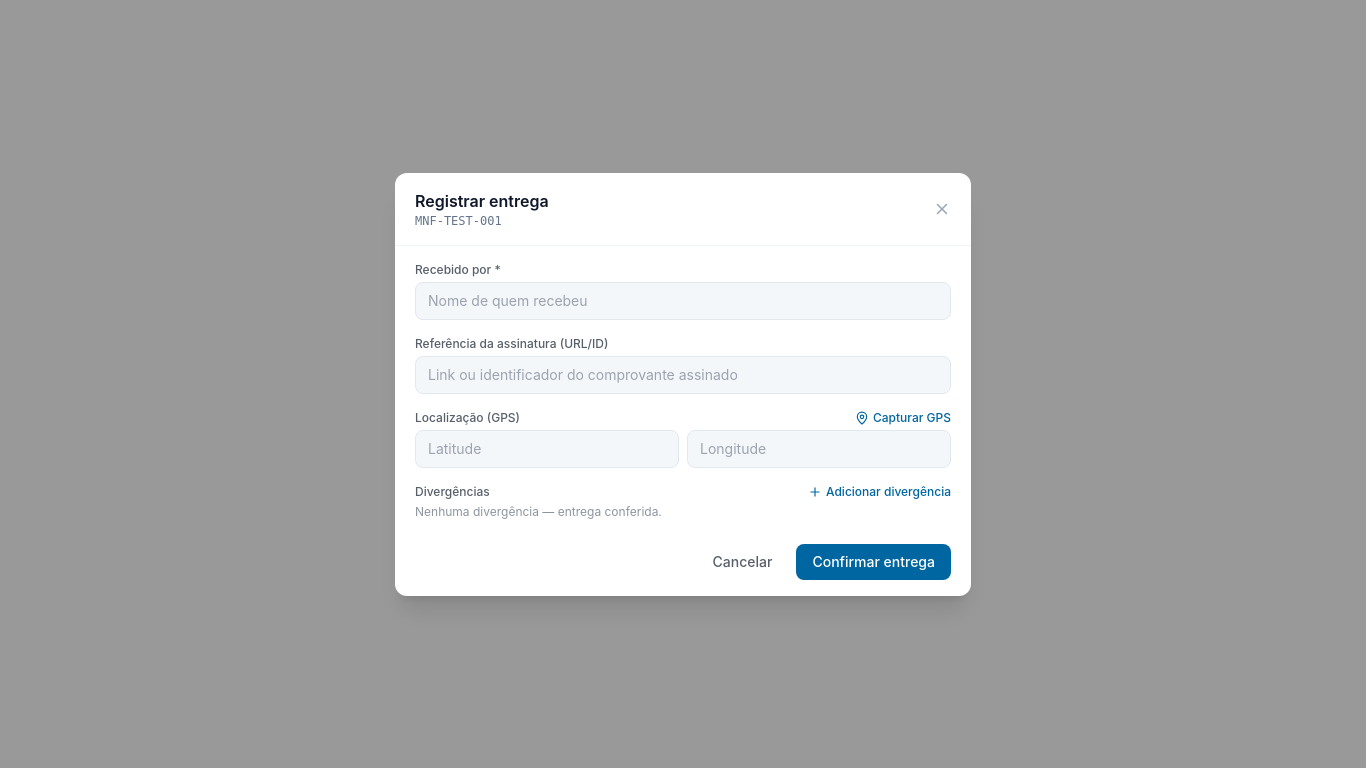
Test case: DeliveryModal › requires received_by before submitting
The width and height of the screenshot is (1366, 768).
Click the button "Confirmar entrega": (874, 562) 796,544 -> 951,580
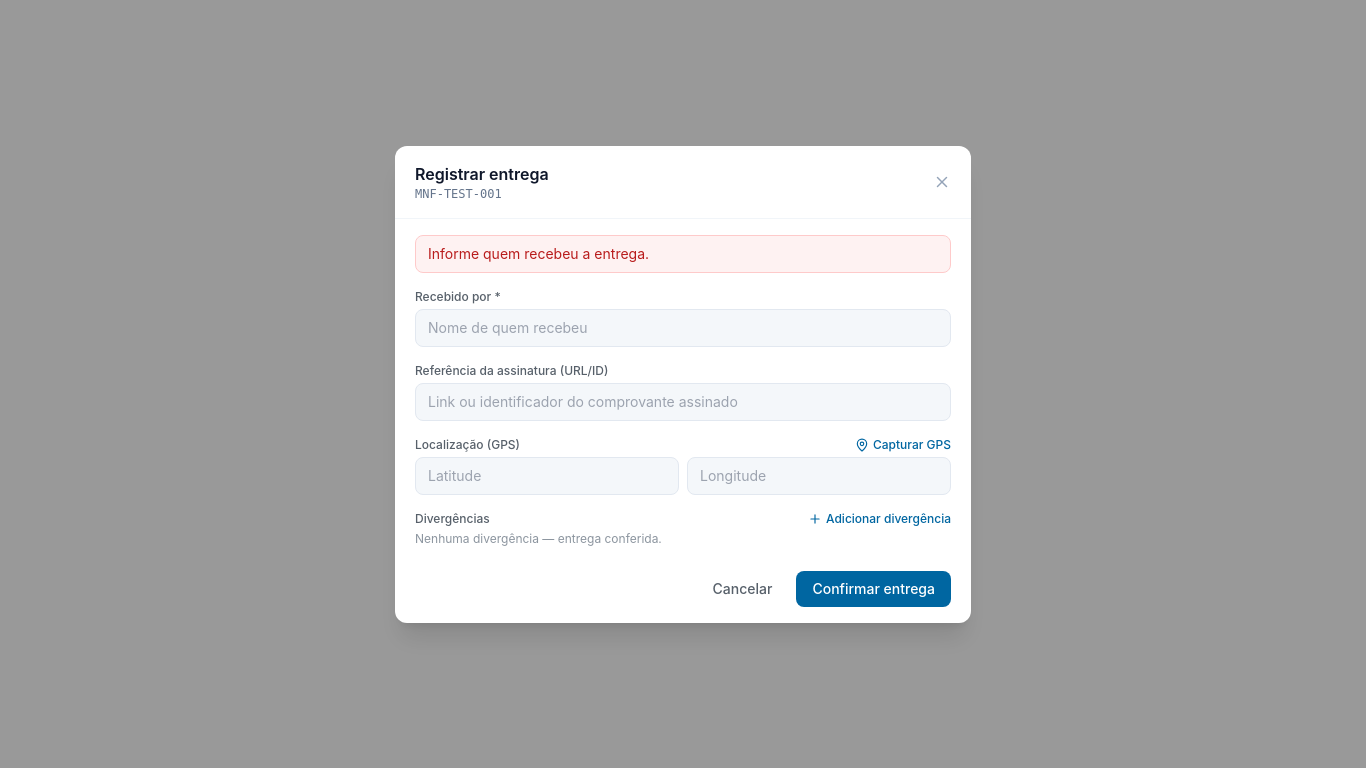
expect the text "Informe quem recebeu a entrega." is shown: met, box 415,234 -> 951,272
